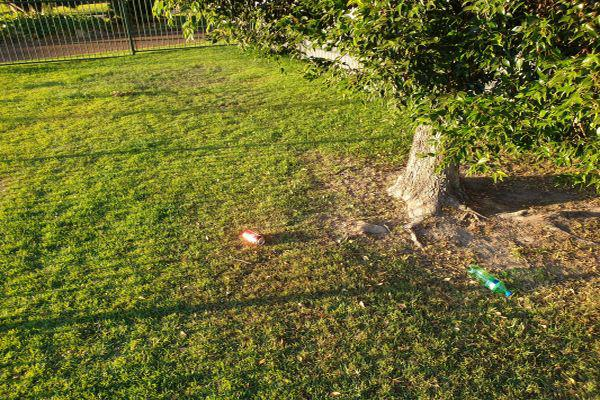Plastic Bottle: (466, 264, 512, 298), (241, 229, 266, 247)
